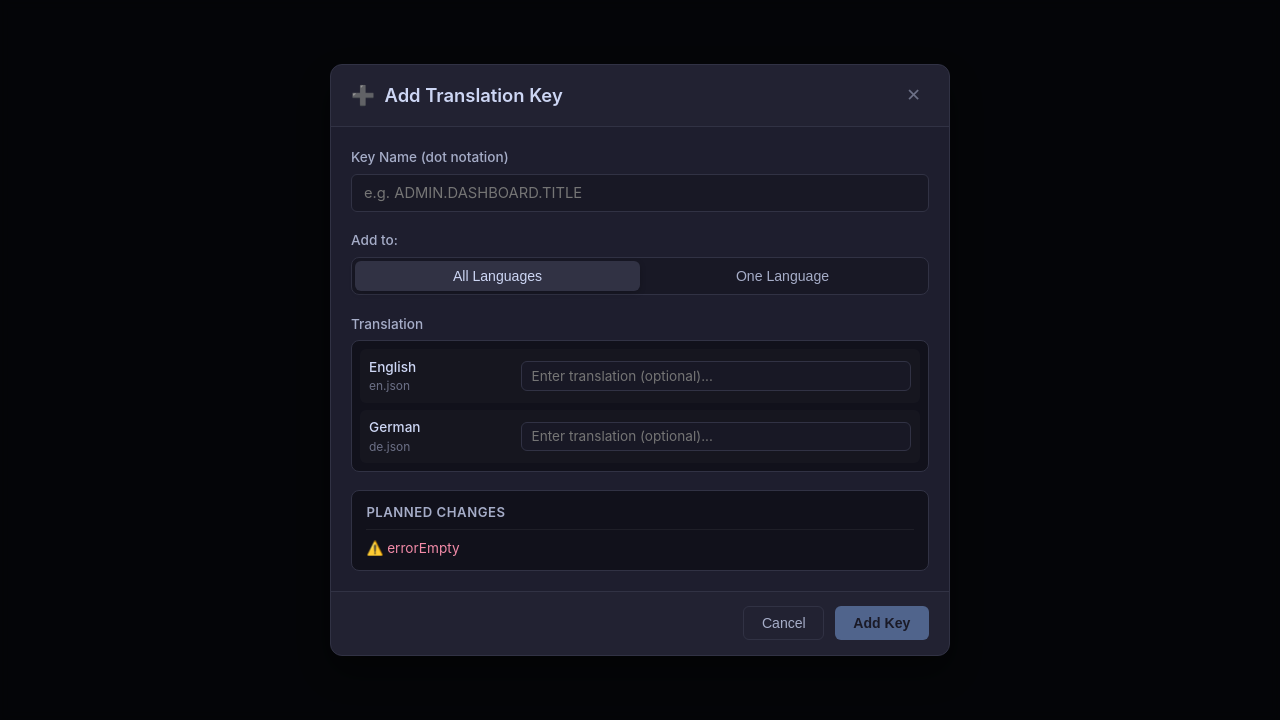
it: AddTranslationKeyModal Component › supports single language mode and warns if key already exists in selected file
Click the button with test id "mode-single-btn".
click(782, 276)  # box left=640, top=261, right=925, bottom=291
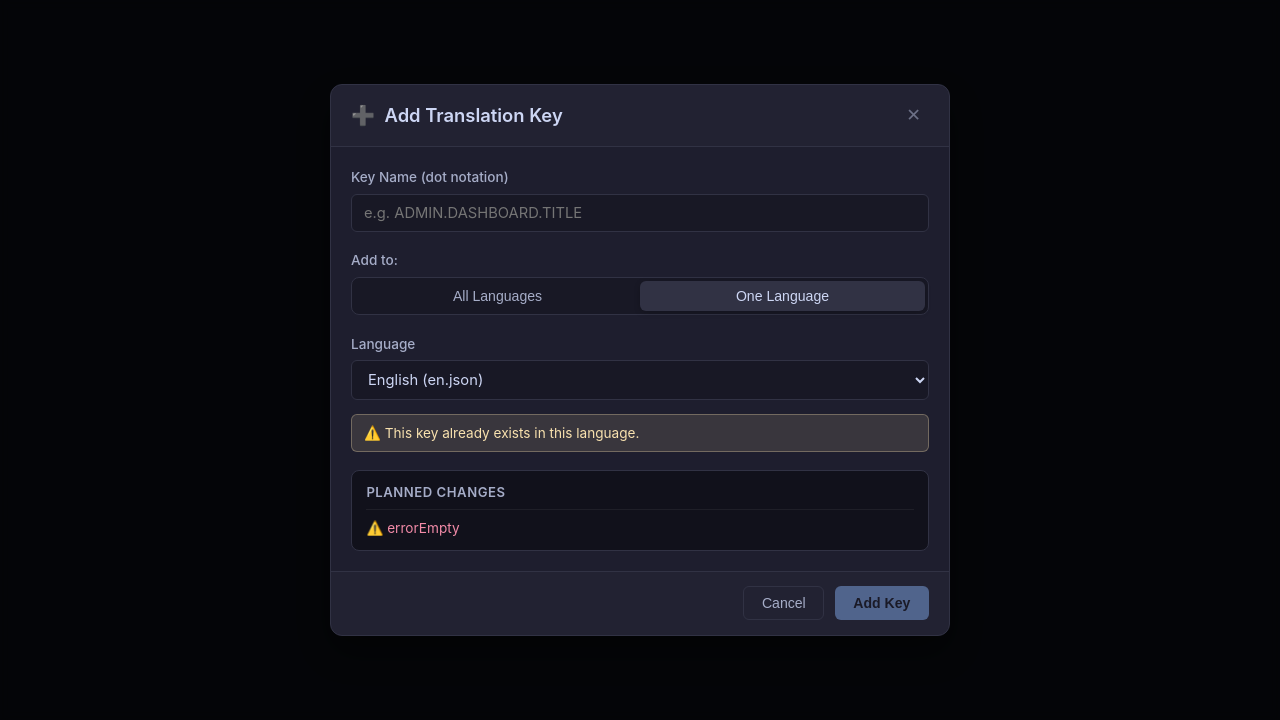
Type "HEADER.TITLE" into the field with test id "add-key-input".
click(640, 213); type("HEADER.TITLE")  # box left=351, top=194, right=929, bottom=232
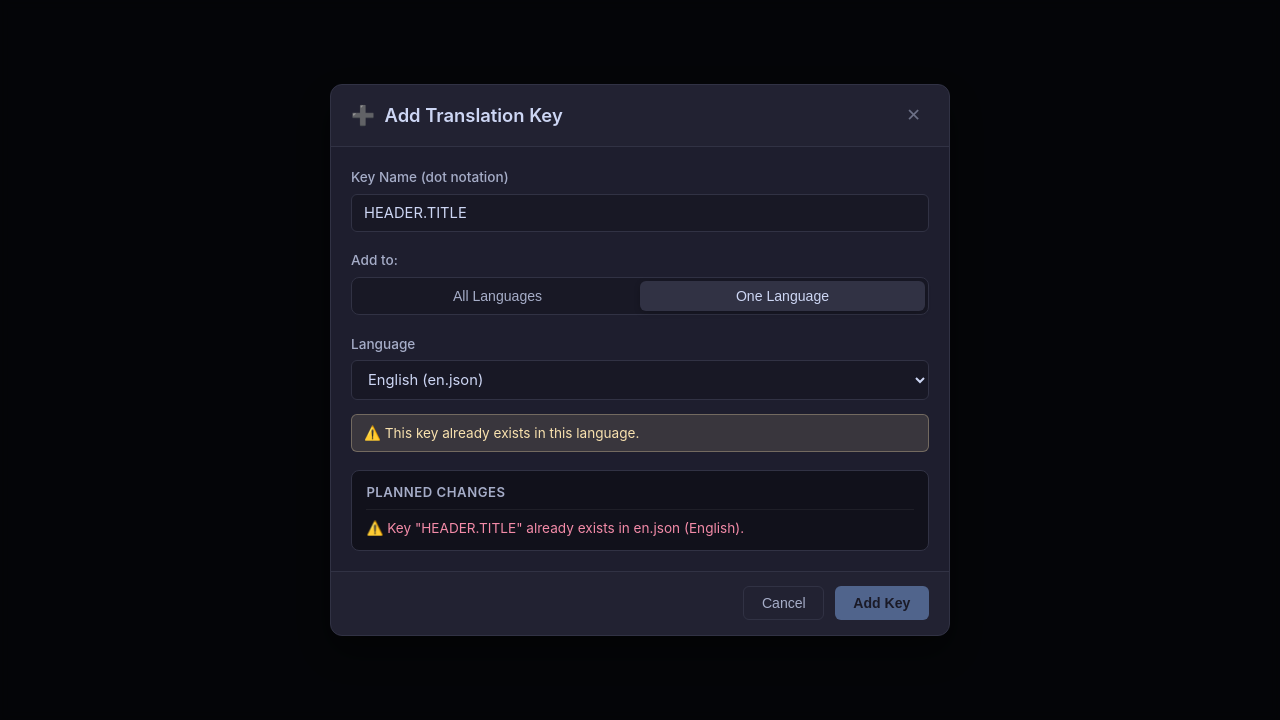
Select "English (en.json)" in the dropdown with test id "single-lang-select" at (640, 380), box left=351, top=360, right=929, bottom=400
expect the button with test id "add-key-confirm-btn" is disabled: met, box left=835, top=586, right=929, bottom=620
expect the text "⚠️ This key already exists in this language." is shown: met, box left=351, top=414, right=929, bottom=452
Switch to de.json
Select "German (de.json)" in the dropdown with test id "single-lang-select" at (640, 380), box left=351, top=360, right=929, bottom=400
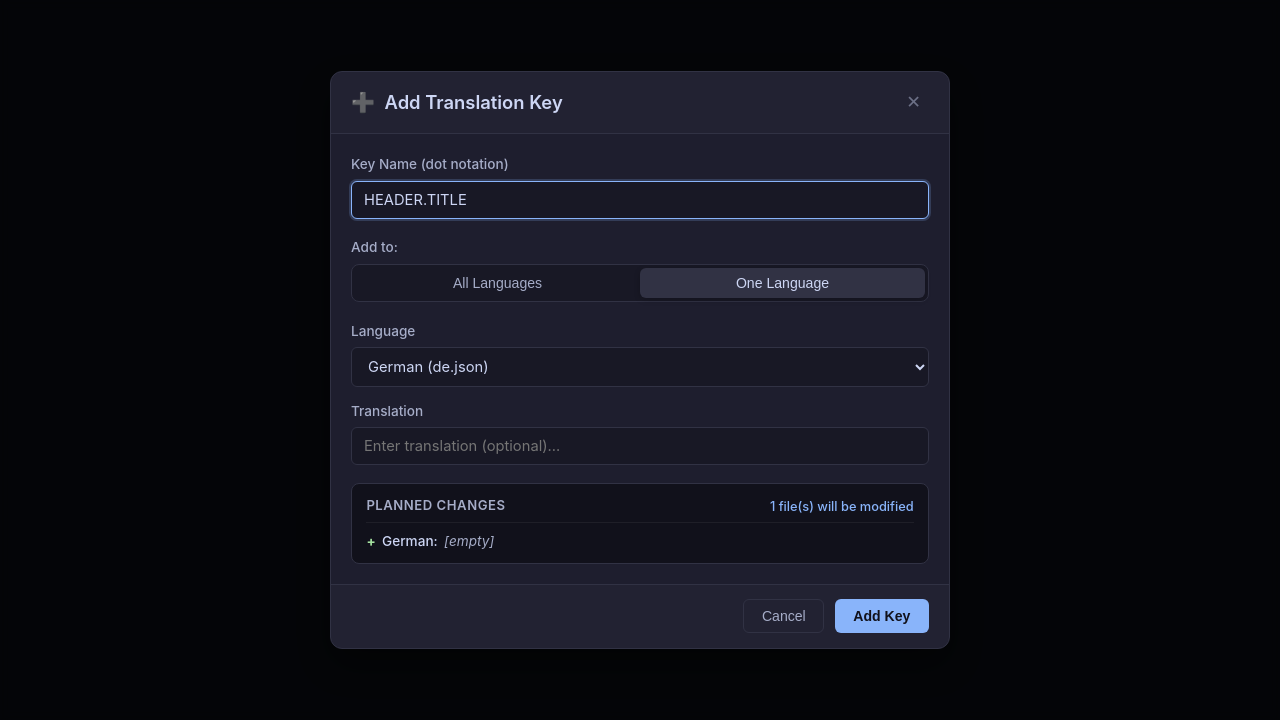
expect the text "already exists in this language" is gone: met
expect the button with test id "add-key-confirm-btn" is enabled: met, box left=835, top=599, right=929, bottom=633
